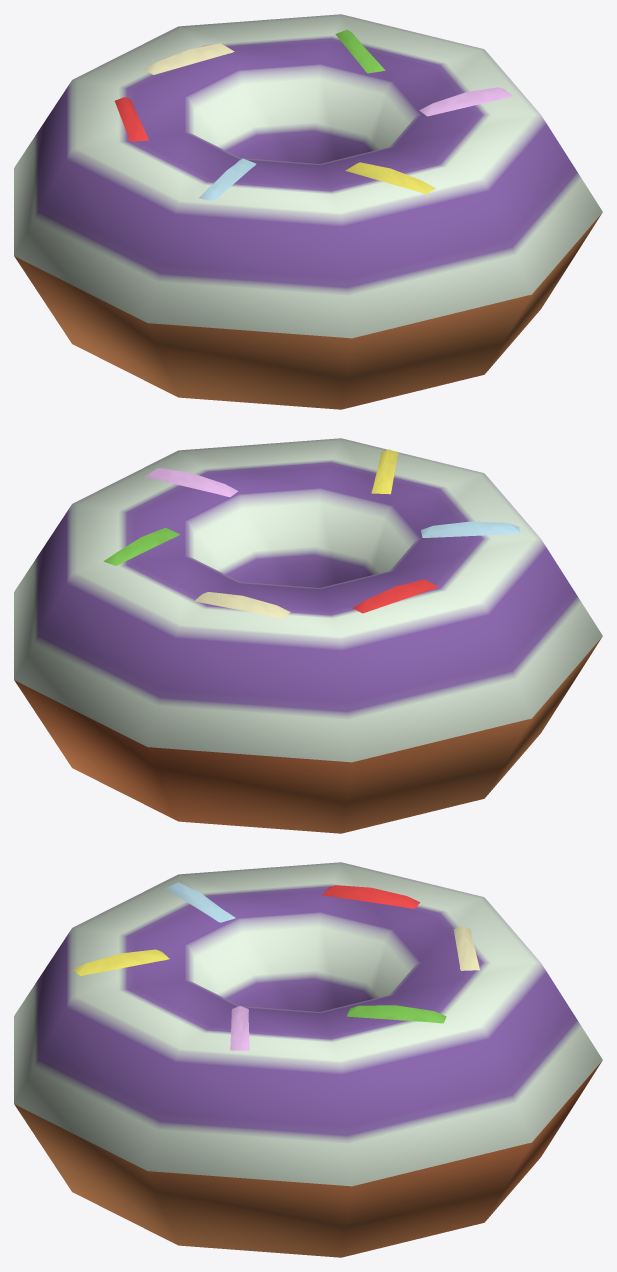
The model's file is Doughnut_H.FBX.
3 views of the same model, one above another, from view 1: azimuth 30°, elevation 25°; view 2: azimuth 150°, elevation 25°; view 3: azimuth 270°, elevation 25° (orthographic).
Parts seen in each view (by area): view 1: Doughnut; view 2: Doughnut; view 3: Doughnut.
Boxes of the visible parts, box(x1,y1,x2,y2) form: Doughnut: box(14, 14, 602, 409); Doughnut: box(14, 438, 602, 833); Doughnut: box(14, 862, 602, 1257).
Bounding box in the file's own units: 52.77 × 19.96 × 51.97.
